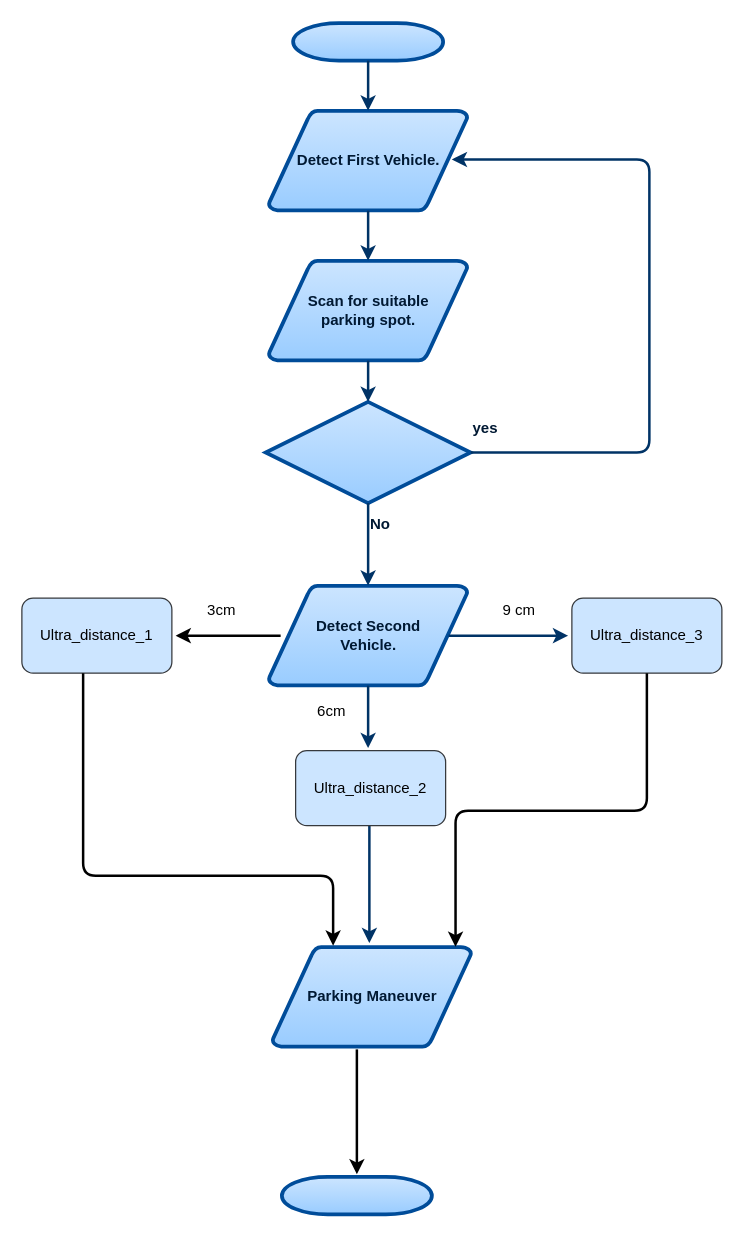
Image size: 744x1238. Some labels were removed from this diagram. The centre of each missing label's shape, as x and y in pixels:
end: the point at 356,1195
Obstacle? OR Insufficient Parking Length: the point at 367,451
start: the point at 367,41
